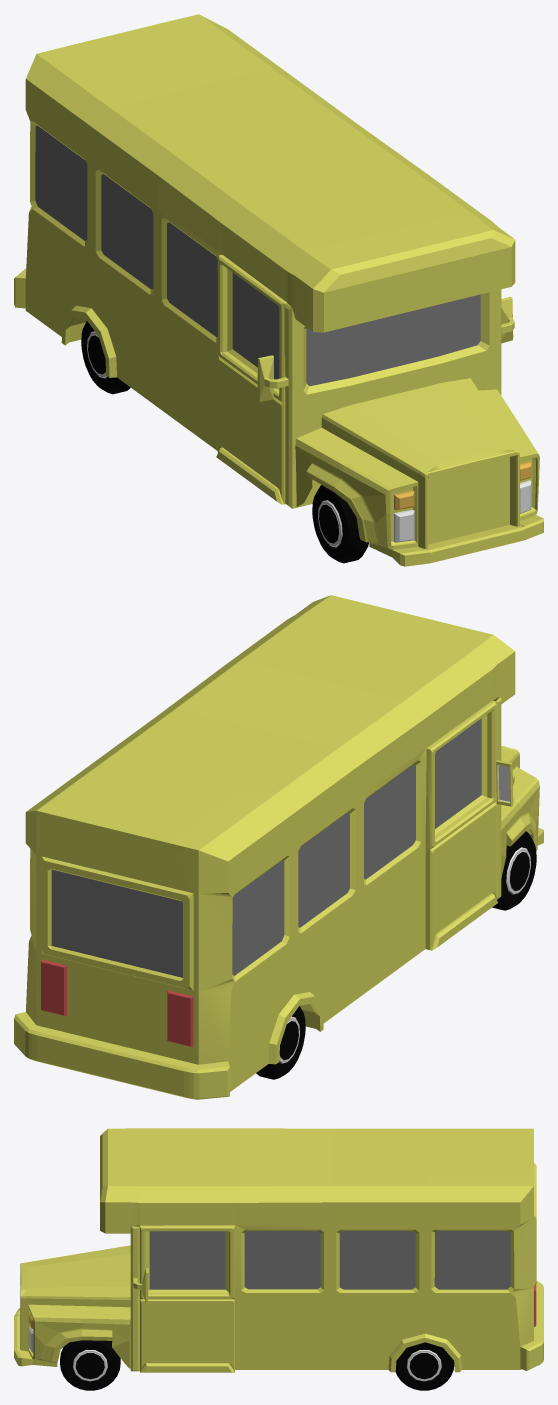
The model's file is School_Bus.fbx.
The picture shows the model from 3 angles, top to bottom: view 1: azimuth 30°, elevation 25°; view 2: azimuth 150°, elevation 25°; view 3: azimuth 270°, elevation 25°; orthographic projection. The views are drawn at different scales.
Parts seen in each view (by area): view 1: pasted__pasted__pasted__pCylinder5; view 2: pasted__pasted__pasted__pCylinder5; view 3: pasted__pasted__pasted__pCylinder5.
Boxes of the visible parts, x1,y1,x2,y2 form: pasted__pasted__pasted__pCylinder5: [14, 14, 543, 566]; pasted__pasted__pasted__pCylinder5: [14, 595, 543, 1099]; pasted__pasted__pasted__pCylinder5: [14, 1128, 543, 1390].
Size of the model in its own units: 4.69 by 4.94 by 11.72.
